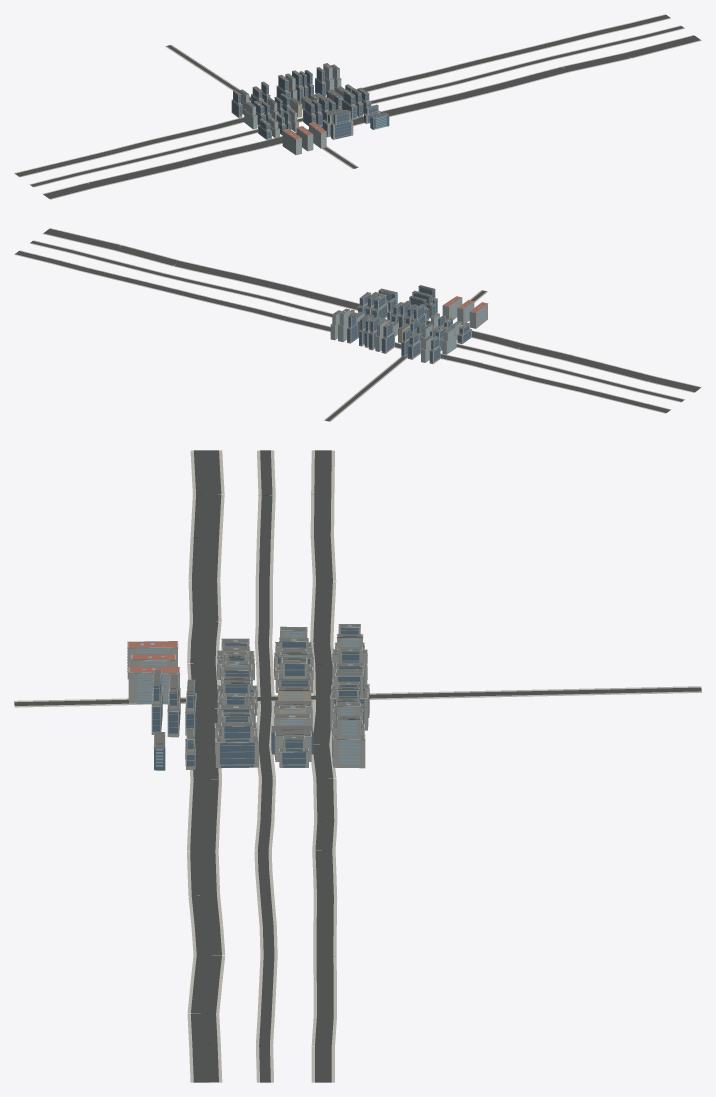
The model's file is tile-m001-m002.glb.
3 renders of one model, top to bottom at view 1: azimuth 30°, elevation 25°; view 2: azimuth 150°, elevation 25°; view 3: azimuth 270°, elevation 25°, orthographic. The views are drawn at different scales.
Visible parts, largest first — view 1: road-h-4-mesh-1, road-h-6-mesh-5, road-h-5-mesh-3, road-h-4-mesh-0, road-h-5-mesh-2, road-h-6-mesh-4, road-radial-0-3-mesh-7, road-radial-0-3-mesh-6, building-0436-mesh-8; view 2: road-h-4-mesh-1, road-h-6-mesh-5, road-h-5-mesh-3, road-h-6-mesh-4, road-h-4-mesh-0, road-h-5-mesh-2, road-radial-0-3-mesh-7, road-radial-0-3-mesh-6; view 3: road-h-4-mesh-1, road-h-6-mesh-5, road-h-5-mesh-3, road-h-5-mesh-2, road-h-6-mesh-4, road-h-4-mesh-0, road-radial-0-3-mesh-7, road-radial-0-3-mesh-6.
Part boxes in pixels (x1=…): road-h-4-mesh-1: x1=43, y1=35, x2=700, y2=198; road-h-6-mesh-5: x1=15, y1=15, x2=670, y2=176; road-h-5-mesh-3: x1=30, y1=26, x2=683, y2=186; road-h-4-mesh-0: x1=42, y1=35, x2=701, y2=199; road-h-5-mesh-2: x1=29, y1=25, x2=684, y2=187; road-h-6-mesh-4: x1=14, y1=14, x2=670, y2=177; road-radial-0-3-mesh-7: x1=166, y1=45, x2=357, y2=168; road-radial-0-3-mesh-6: x1=165, y1=44, x2=358, y2=168; building-0436-mesh-8: x1=282, y1=131, x2=301, y2=155; road-h-4-mesh-1: x1=43, y1=228, x2=700, y2=392; road-h-6-mesh-5: x1=15, y1=251, x2=670, y2=412; road-h-5-mesh-3: x1=30, y1=241, x2=683, y2=401; road-h-6-mesh-4: x1=14, y1=250, x2=671, y2=413; road-h-4-mesh-0: x1=43, y1=228, x2=701, y2=392; road-h-5-mesh-2: x1=29, y1=240, x2=684, y2=402; road-radial-0-3-mesh-7: x1=325, y1=290, x2=486, y2=421; road-radial-0-3-mesh-6: x1=324, y1=290, x2=487, y2=421; road-h-4-mesh-1: x1=190, y1=450, x2=221, y2=1082; road-h-6-mesh-5: x1=313, y1=450, x2=334, y2=1082; road-h-5-mesh-3: x1=257, y1=450, x2=274, y2=1082; road-h-5-mesh-2: x1=254, y1=450, x2=277, y2=1082; road-h-6-mesh-4: x1=310, y1=450, x2=337, y2=1082; road-h-4-mesh-0: x1=187, y1=450, x2=225, y2=1082; road-radial-0-3-mesh-7: x1=14, y1=687, x2=701, y2=705; road-radial-0-3-mesh-6: x1=14, y1=686, x2=701, y2=707.
Size of the model in its own units: 1600 by 64.6 by 736.
